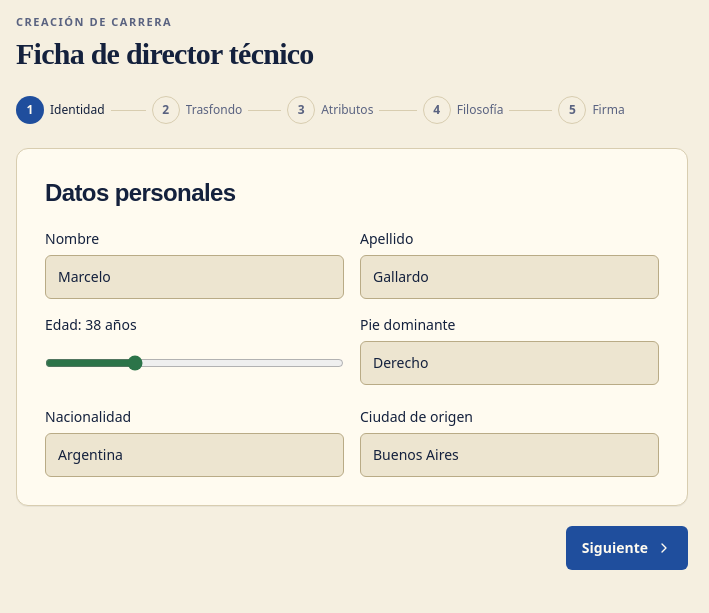
Test case: asistente de creación del DT › exige nombre y apellido con el error junto al campo
Clear the field labelled "Nombre" at point(194, 277), box x1=45 y1=255 x2=344 y2=299
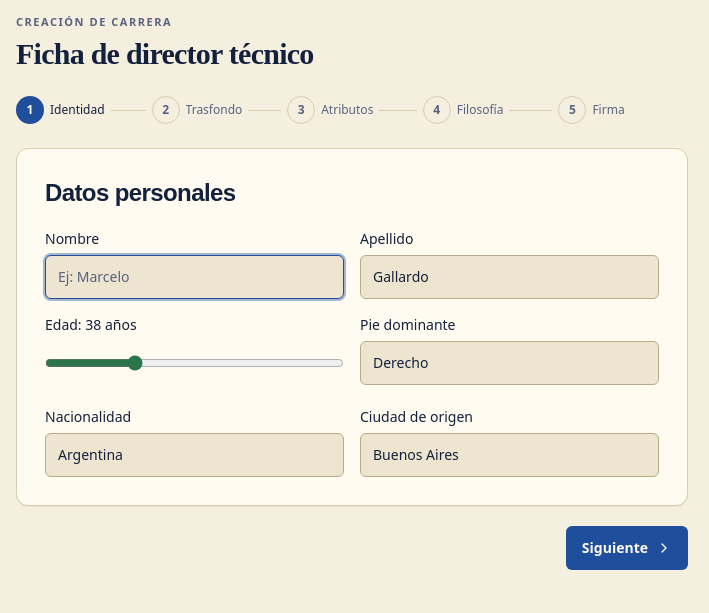
Click the button "Siguiente" at point(627, 548), box x1=566 y1=526 x2=688 y2=570
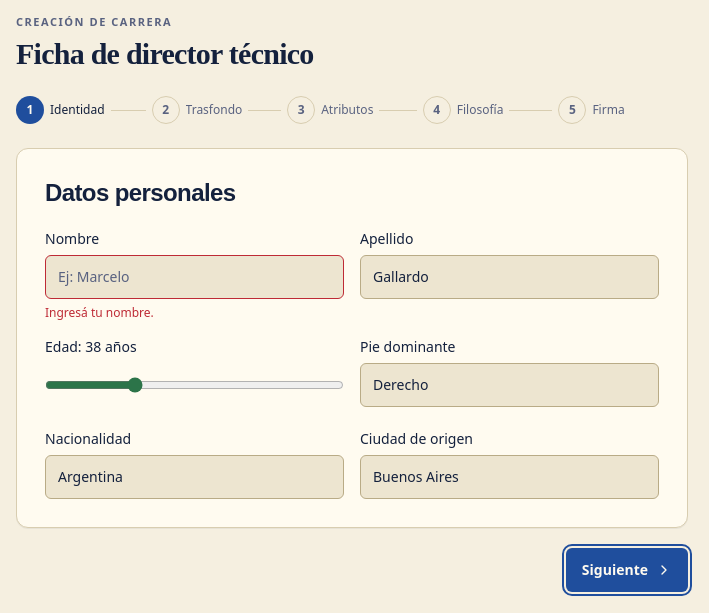
expect the list item "1 Identidad" is shown: met, box x1=16 y1=96 x2=105 y2=124
expect the message reads "Ingresá tu nombre.": met, box x1=45 y1=304 x2=154 y2=321
